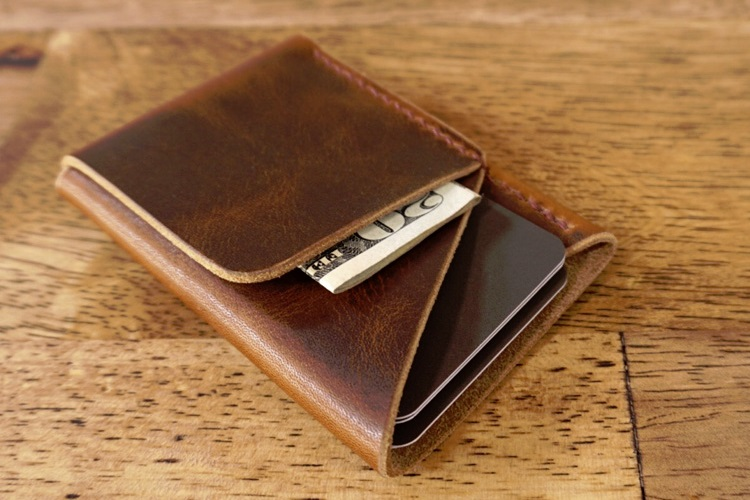monedero: (51, 30, 623, 481)
